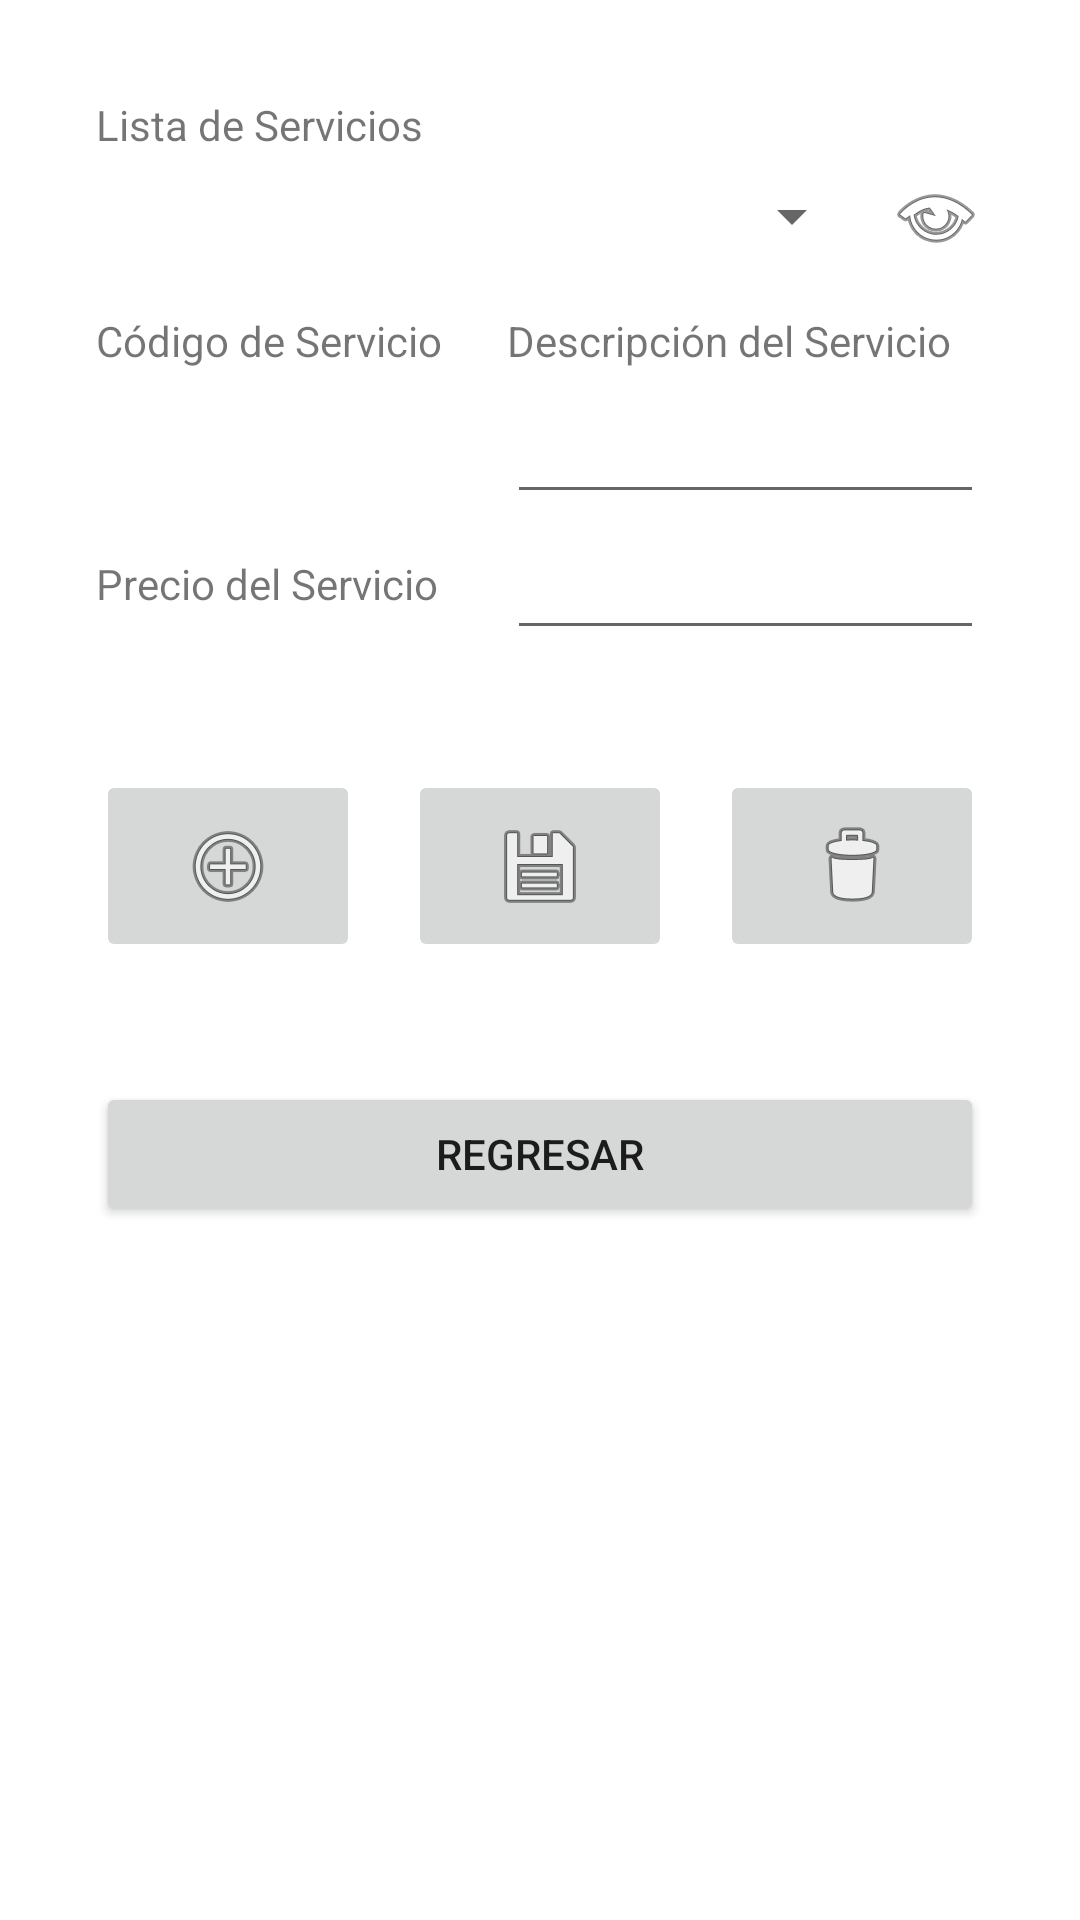

Icon bounding boxes for this 1080×1920 phone screenshot, format (x1=x1, y1=y1, x2=x2, y2=y2):
add: (x1=108, y1=788, x2=348, y2=944)
delete: (x1=732, y1=788, x2=972, y2=944)
save: (x1=420, y1=788, x2=660, y2=944)
view: (x1=897, y1=194, x2=975, y2=243)
